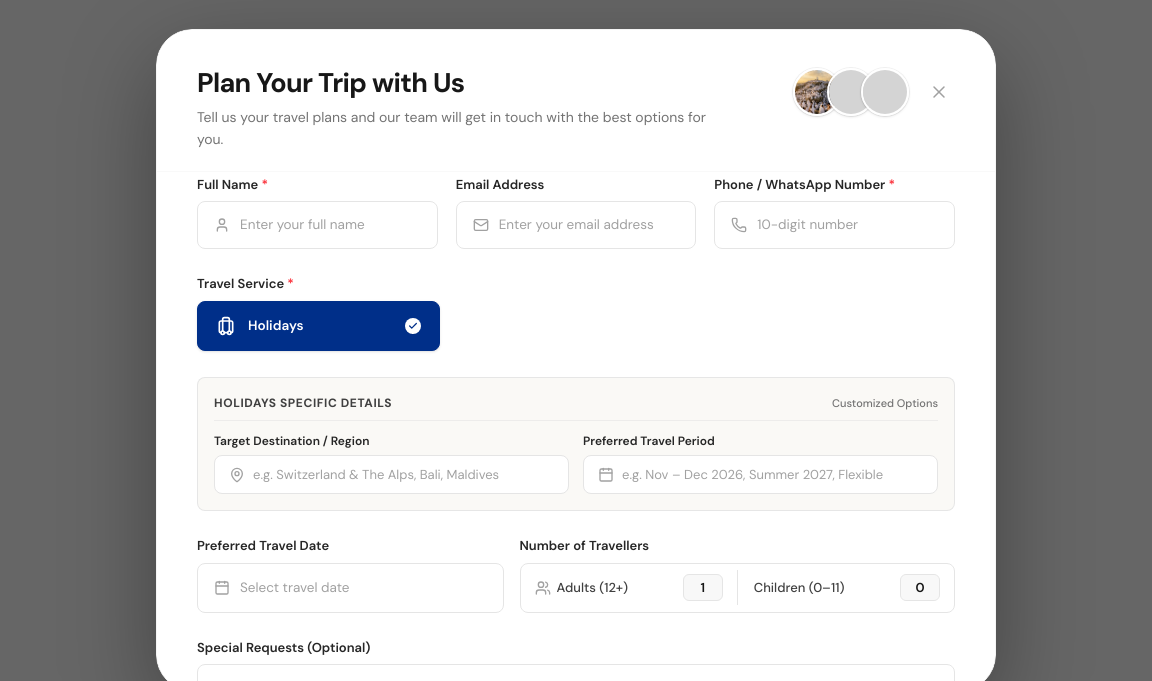
public capture › prevents duplicate submissions and closing during an in-flight write
Later steps or results of the test are not shown.
Step 1. Type "  Ahmed Ali  " into the field labelled "Full Name *" → (330, 225), box [240,216,421,234]
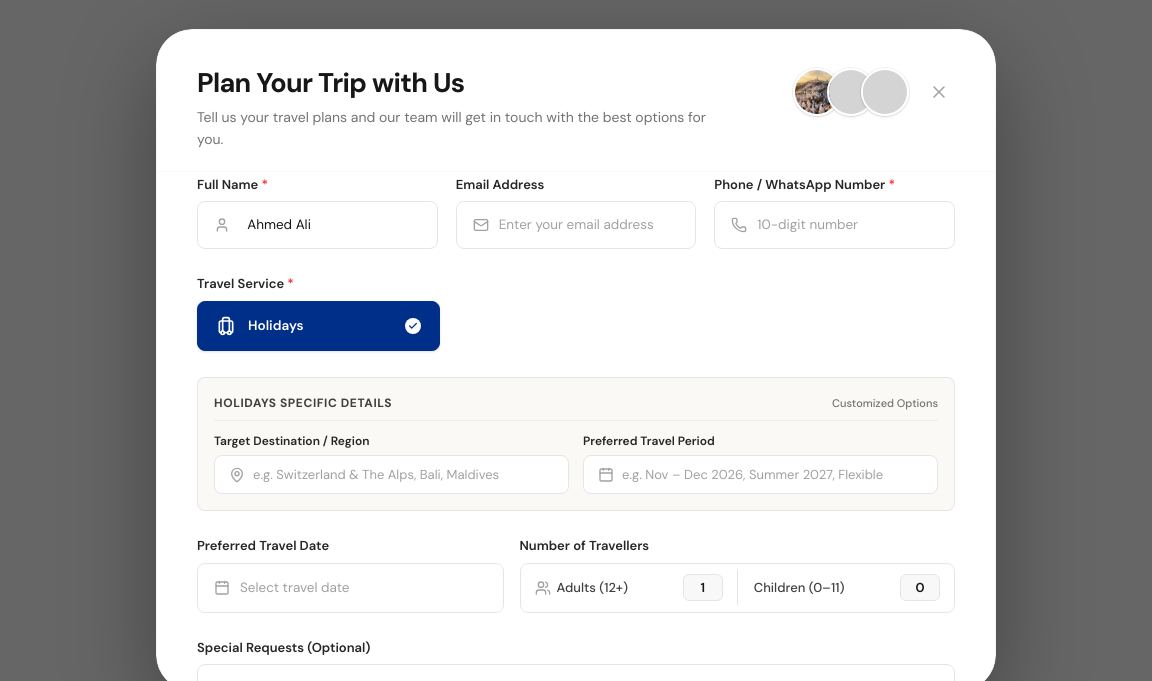
Step 2. Type "9876543210" into the field labelled "Phone / WhatsApp Number *" → (848, 225), box [757,216,938,234]
(page scrolled)
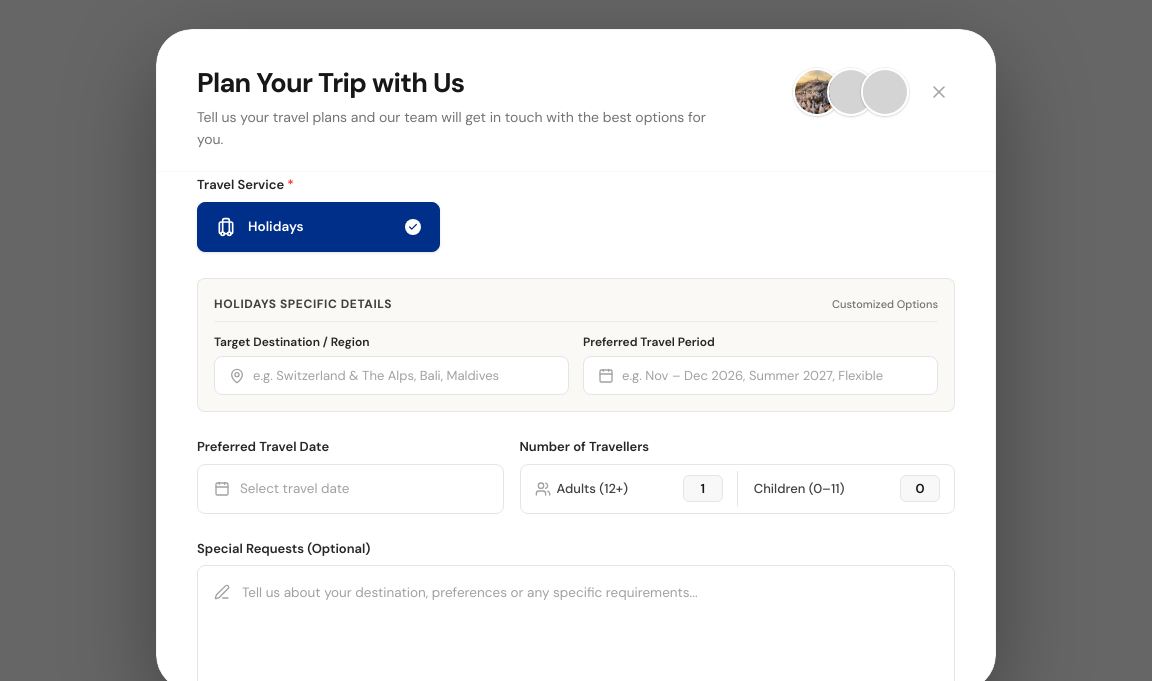
Step 3. Submit the form named "Submit Travel Enquiry"
Step 4. Submit the form named "Submit Travel Enquiry"
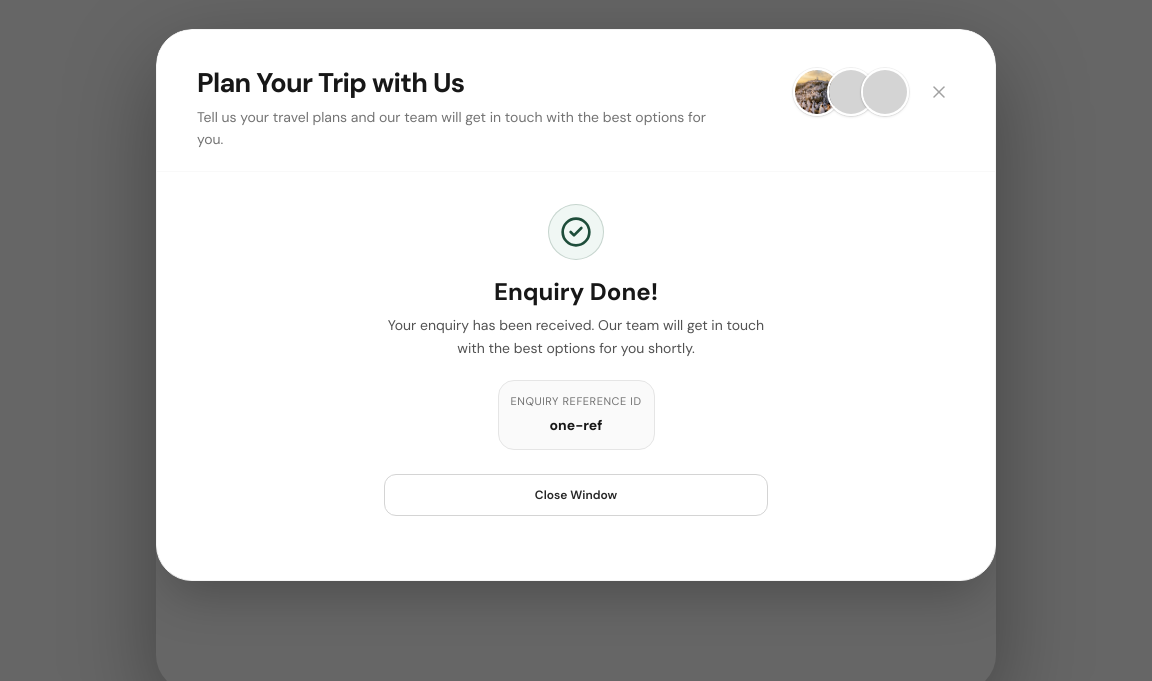
Expected: the text "one-ref" is shown, [550,416,602,434]
